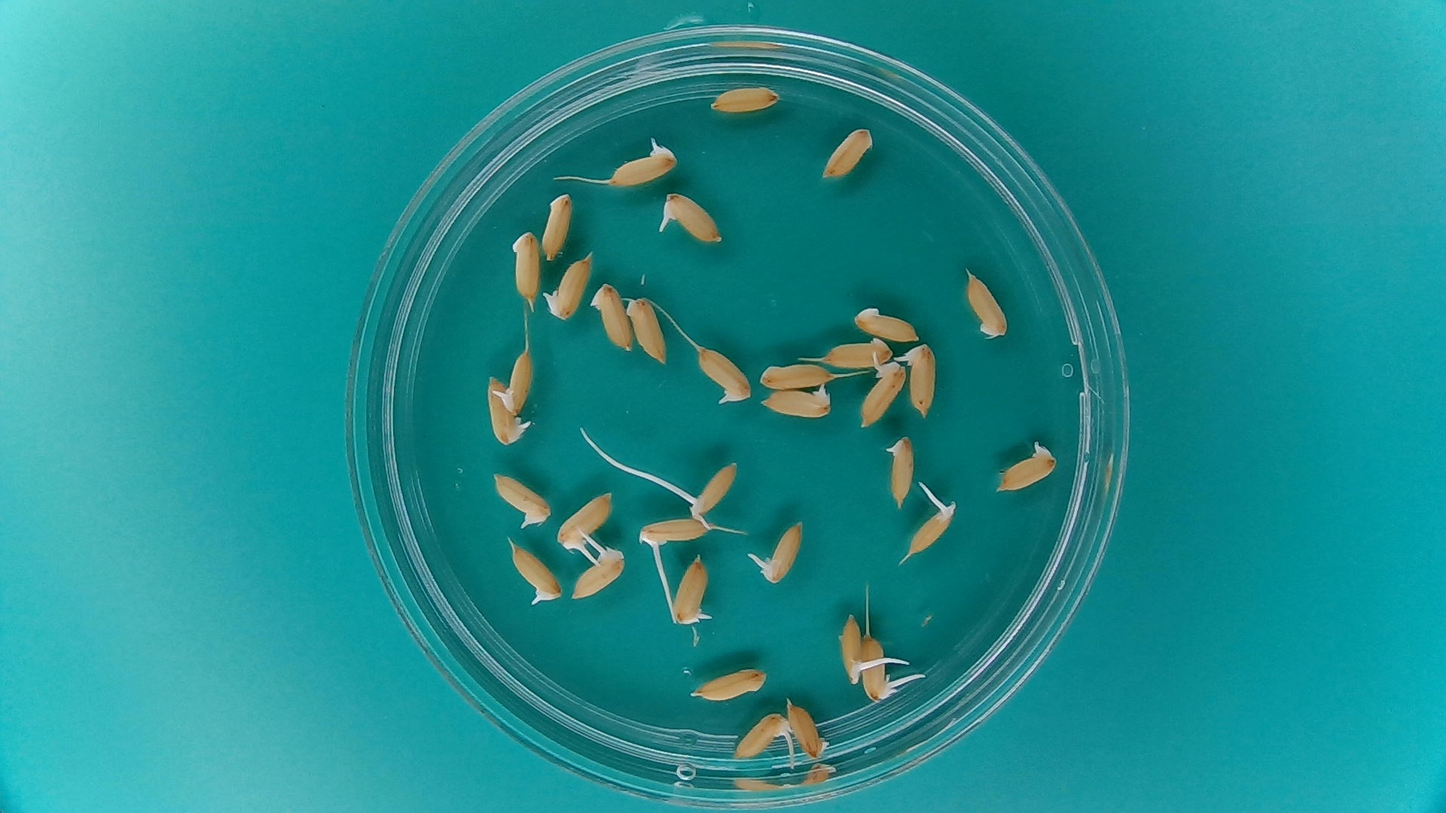no: (962, 263, 1014, 342), (817, 122, 876, 184), (586, 281, 633, 355), (624, 292, 670, 367), (688, 665, 769, 705), (786, 699, 831, 762), (851, 302, 923, 341), (539, 188, 575, 263), (508, 227, 541, 307), (706, 82, 782, 116), (757, 361, 836, 393), (822, 336, 892, 369)
yes: (746, 516, 808, 589), (901, 486, 960, 560), (684, 458, 742, 528), (505, 538, 563, 608), (603, 135, 681, 187), (657, 190, 728, 247), (554, 486, 615, 552), (991, 437, 1060, 495), (541, 248, 594, 322), (667, 551, 715, 632), (856, 358, 909, 431), (693, 342, 752, 407), (490, 470, 551, 531), (569, 542, 629, 602), (726, 709, 792, 762), (484, 380, 534, 449), (496, 341, 536, 420), (880, 431, 917, 510), (904, 339, 940, 419), (636, 516, 708, 556), (860, 631, 898, 703), (759, 384, 834, 420), (835, 608, 866, 686)
